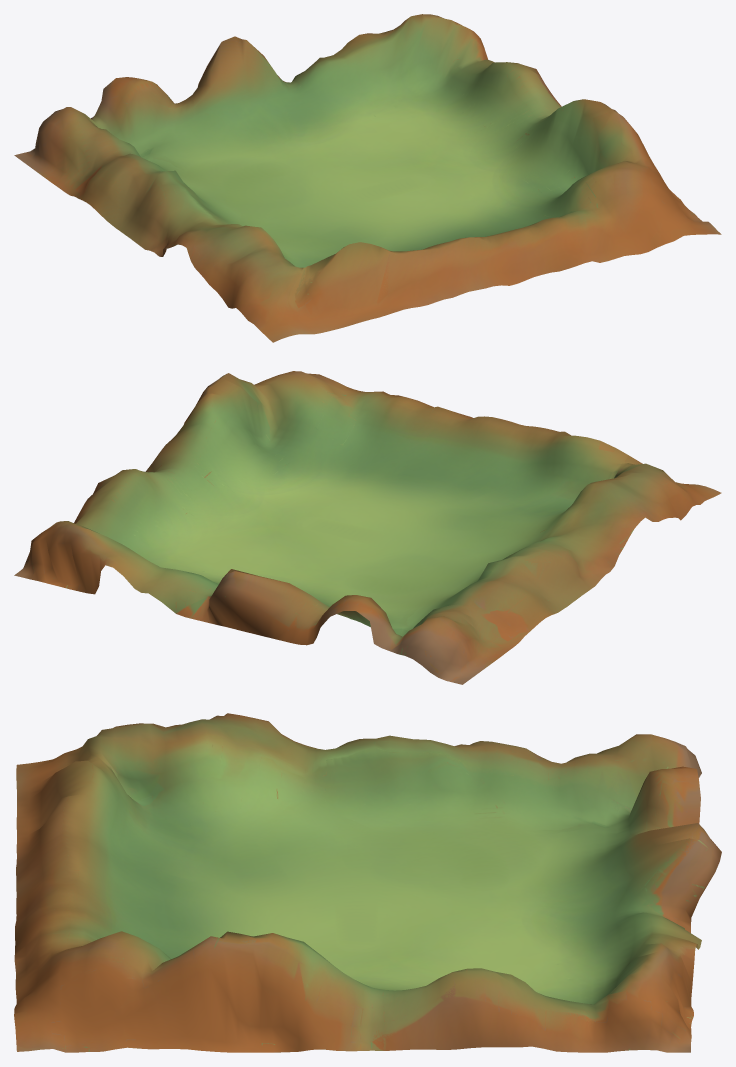
The model's file is Terrain.glb.
The picture shows the model from 3 angles, top to bottom: view 1: azimuth 30°, elevation 25°; view 2: azimuth 150°, elevation 25°; view 3: azimuth 270°, elevation 25°; orthographic projection. The views are drawn at different scales.
Parts seen in each view (by area): view 1: Plane; view 2: Plane; view 3: Plane.
Boxes of the visible parts, bbox=[...] form: Plane: bbox=[14, 14, 721, 342]; Plane: bbox=[14, 371, 721, 684]; Plane: bbox=[14, 713, 721, 1052].
Bounding box in the file's own units: 2059 × 320 × 2101.
1 material, 1 textured.
